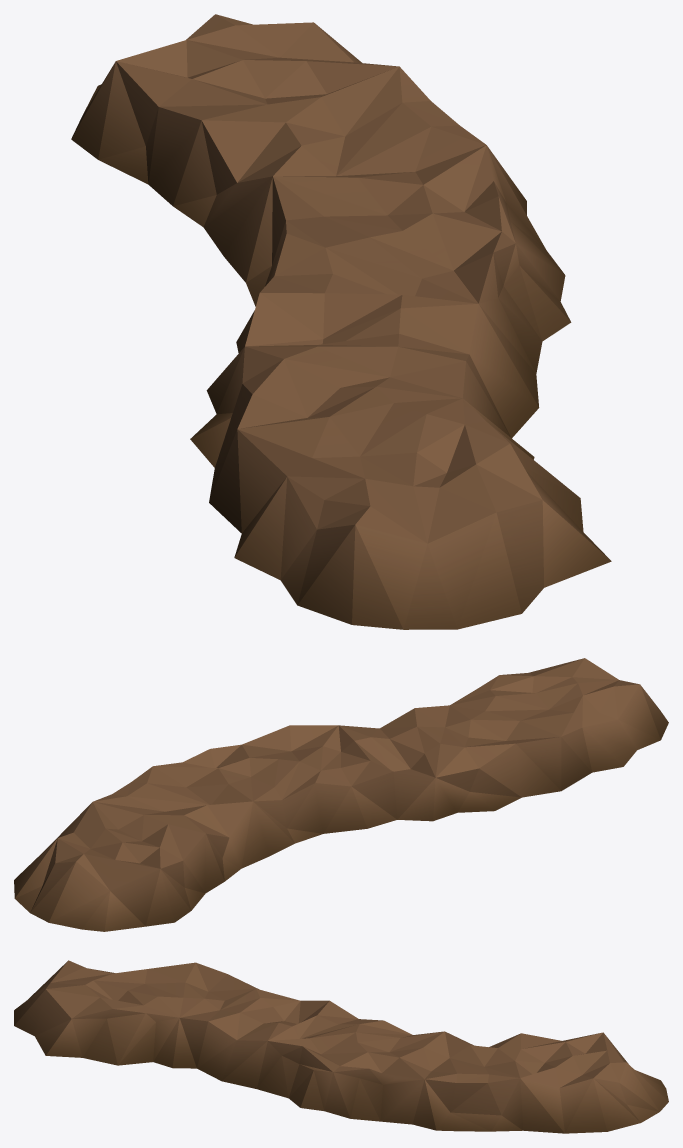
The model's file is ZLP_Road_A_2.FBX.
3 renders of one model, top to bottom at view 1: azimuth 30°, elevation 25°; view 2: azimuth 150°, elevation 25°; view 3: azimuth 270°, elevation 25°, orthographic. The views are drawn at different scales.
Parts seen in each view (by area): view 1: ZLP_Road_A_2; view 2: ZLP_Road_A_2; view 3: ZLP_Road_A_2.
Part boxes in pixels (x1=…): ZLP_Road_A_2: x1=71, y1=14, x2=611, y2=629; ZLP_Road_A_2: x1=14, y1=658, x2=668, y2=931; ZLP_Road_A_2: x1=14, y1=960, x2=668, y2=1133.
Bounding box in the file's own units: 398 × 57.07 × 753.
